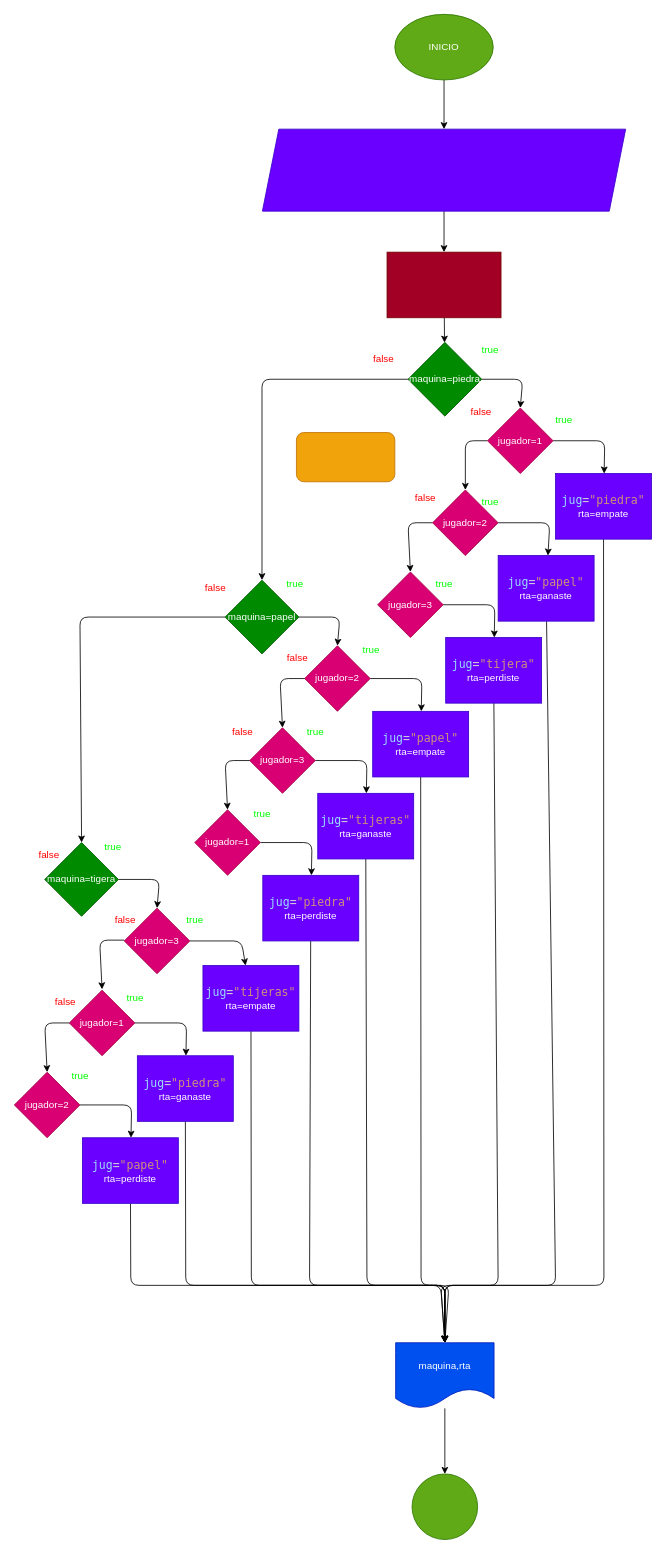
Some shapes in this 666 by 1554 pixel diagram are drawn without their labels. The shapes that lost their labels are listed below. From the top down, each one's centre as x and y in pixels, then its label:
the point at 444,169: JUGADOR= ( "escoje piedra(1),papel(2) o tigera(3): " ,)
the point at 443,284: MAQUINA= [ "piedra" , "papel" , "tigera" ]
the point at 345,457: propiedad de OSCAR DAVID ARILA MURILLO
the point at 444,1506: fin
